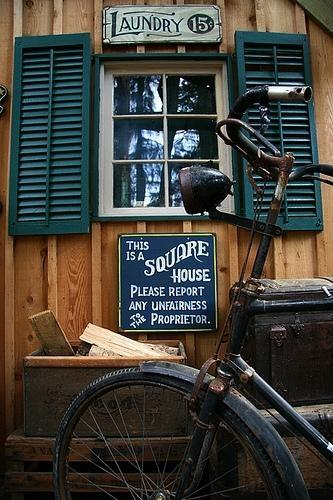bicycle: (51, 83, 333, 494)
